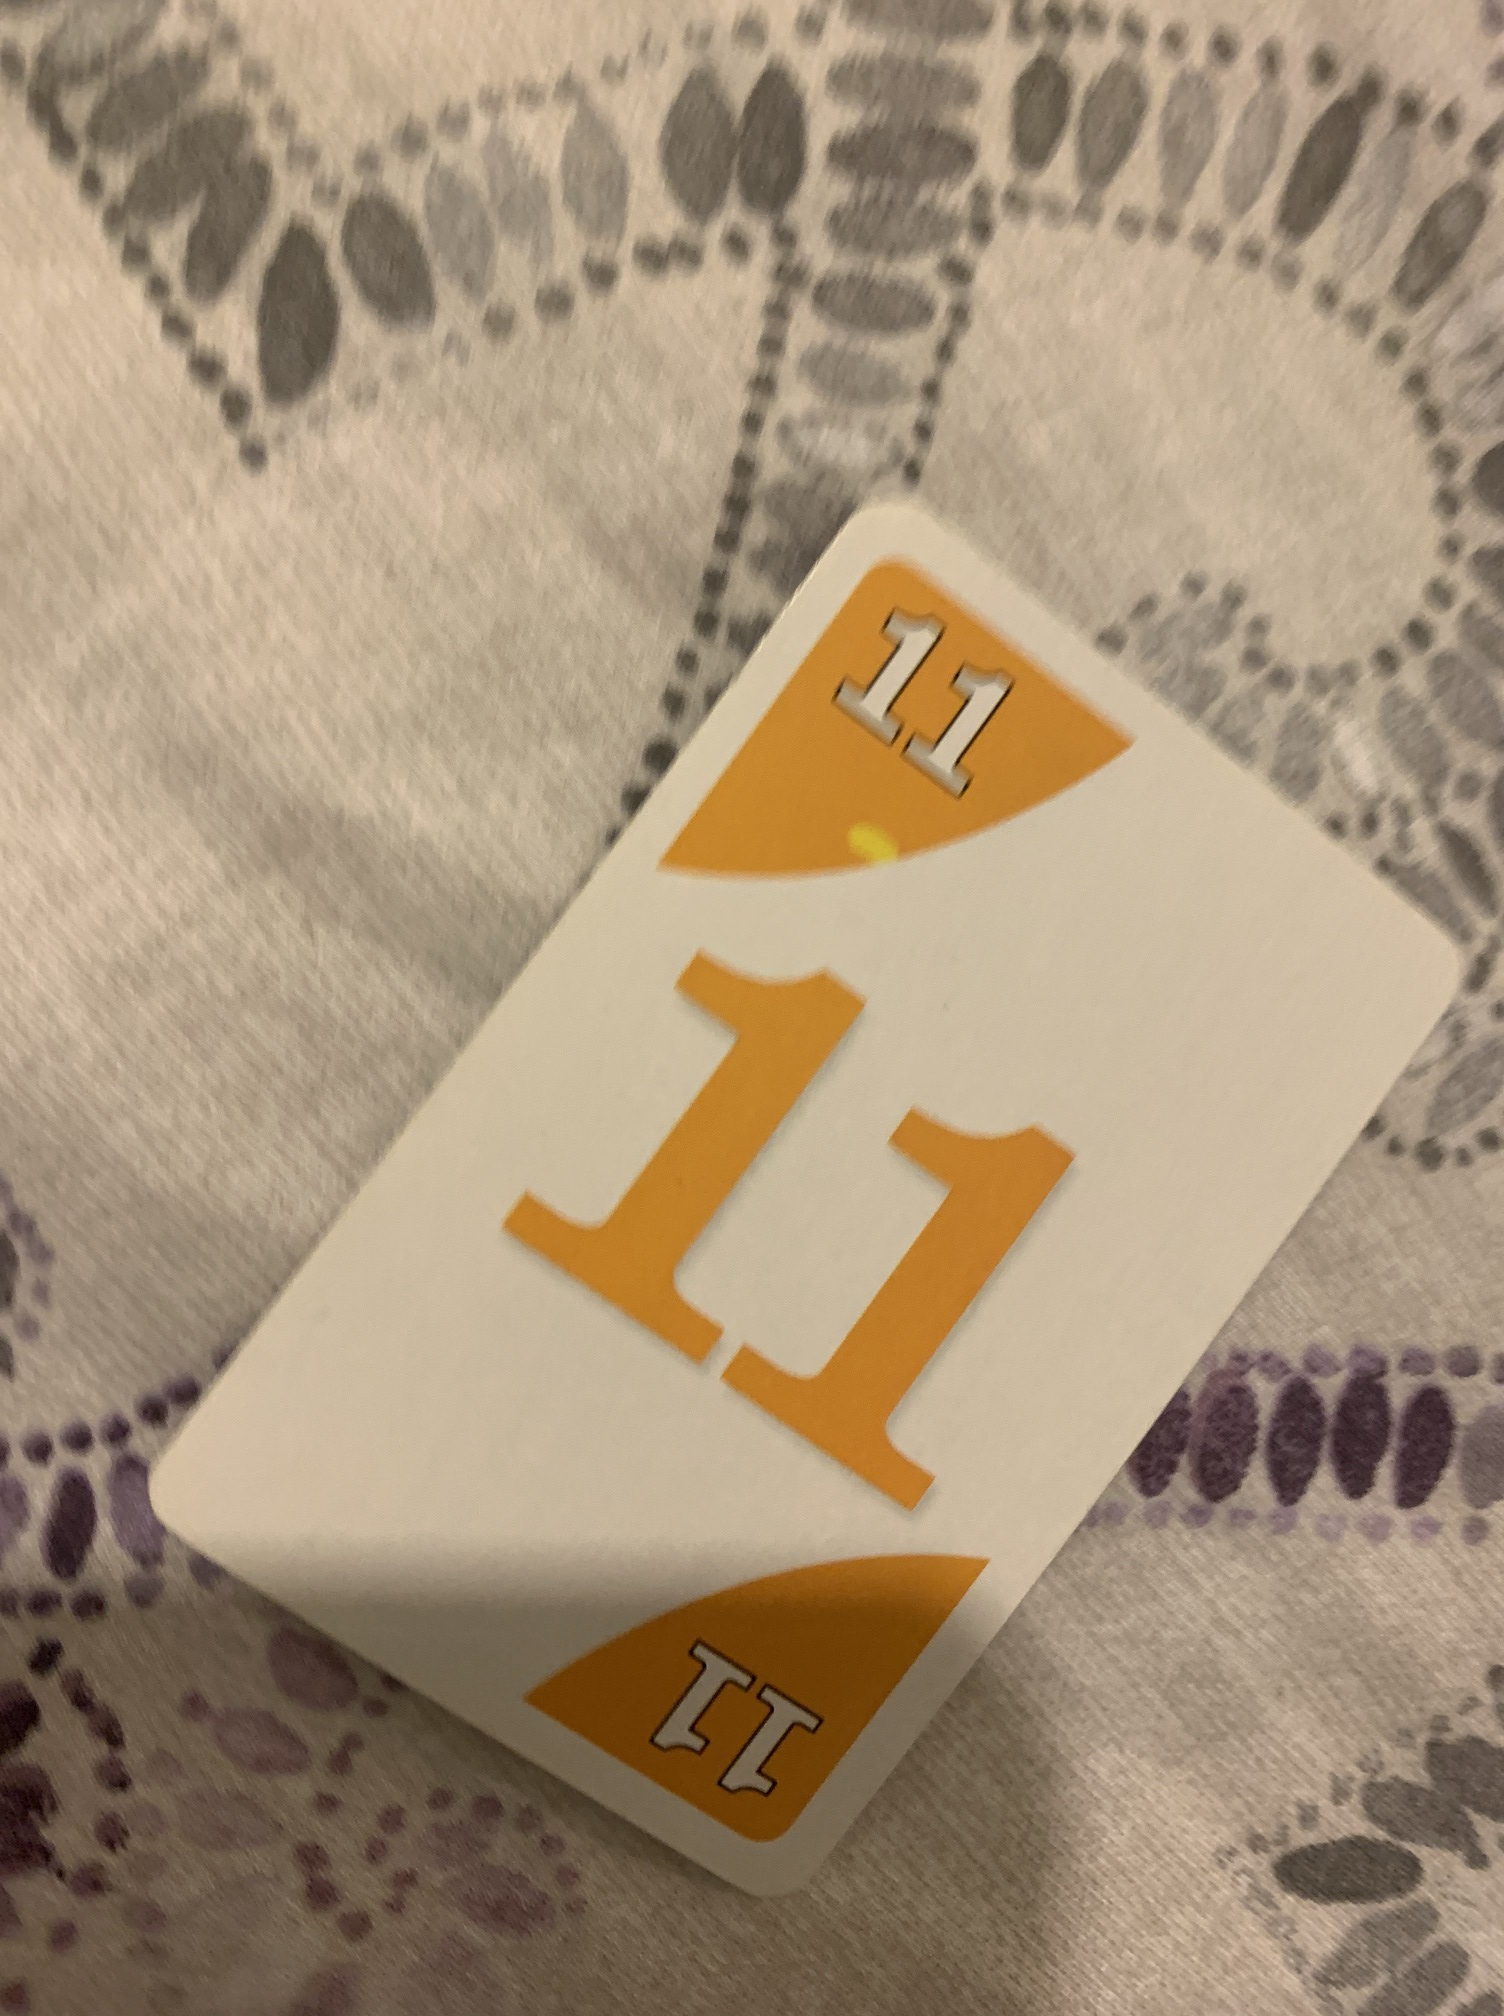eleven: (139, 491, 1465, 1905)
